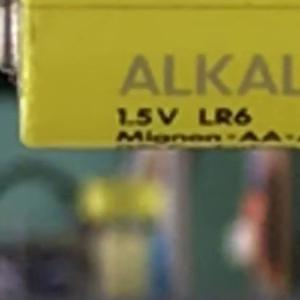ALK: (113, 48, 231, 103)
